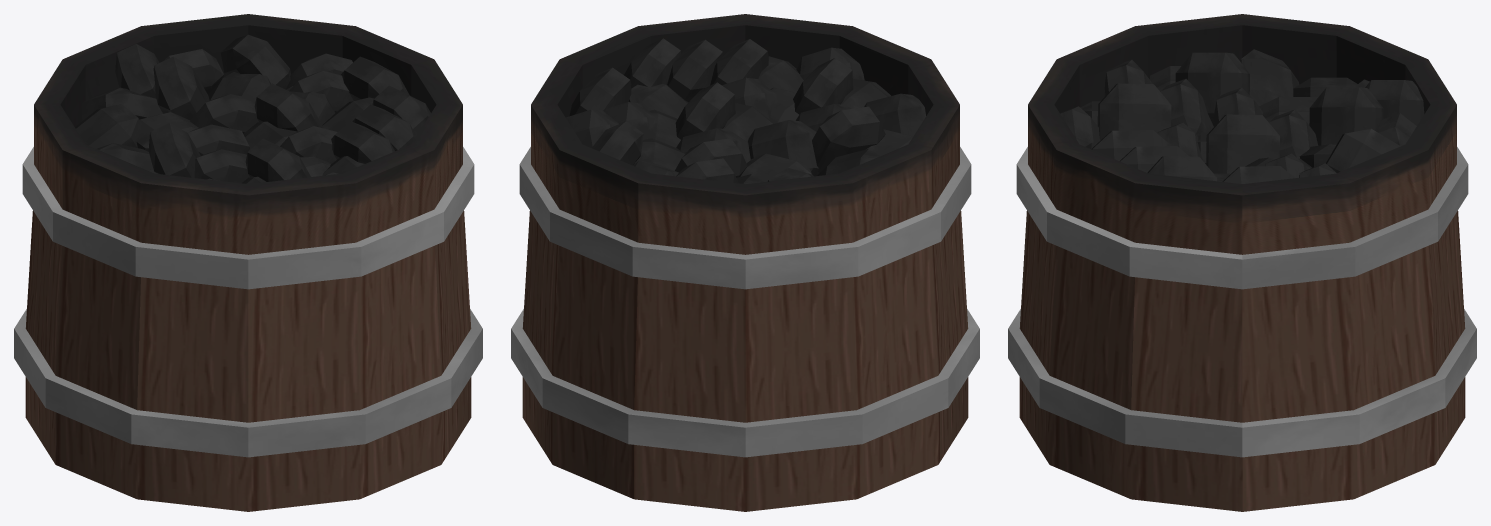
The model's file is 3dmodel_bucketofcoal_v1_sc.fbx.
3 renders of one model, left to right at view 1: azimuth 30°, elevation 25°; view 2: azimuth 150°, elevation 25°; view 3: azimuth 270°, elevation 25°, orthographic.
Parts seen in each view (by area): view 1: bucket_of_coal; view 2: bucket_of_coal; view 3: bucket_of_coal.
Part boxes in pixels (x1=…): bucket_of_coal: x1=14, y1=14, x2=482, y2=511; bucket_of_coal: x1=511, y1=14, x2=979, y2=511; bucket_of_coal: x1=1008, y1=14, x2=1476, y2=511.
Size of the model in its own units: 0.5972 by 0.4535 by 0.5972.
